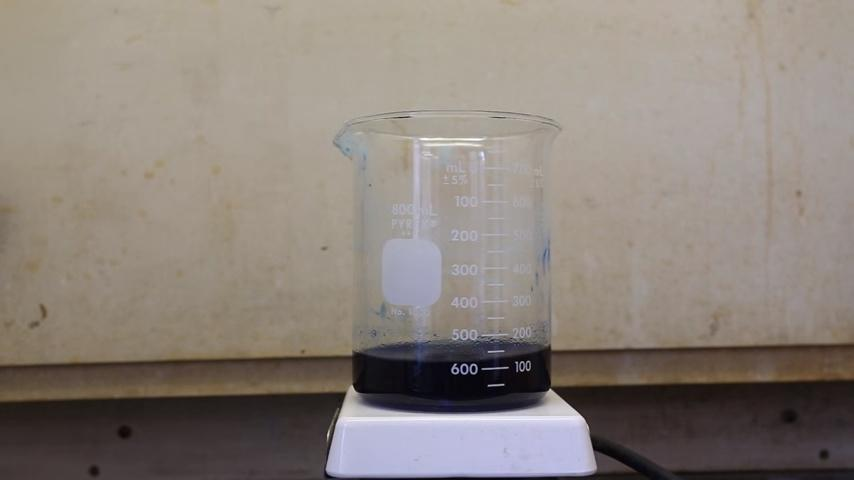Beaker: (327, 105, 570, 415)
